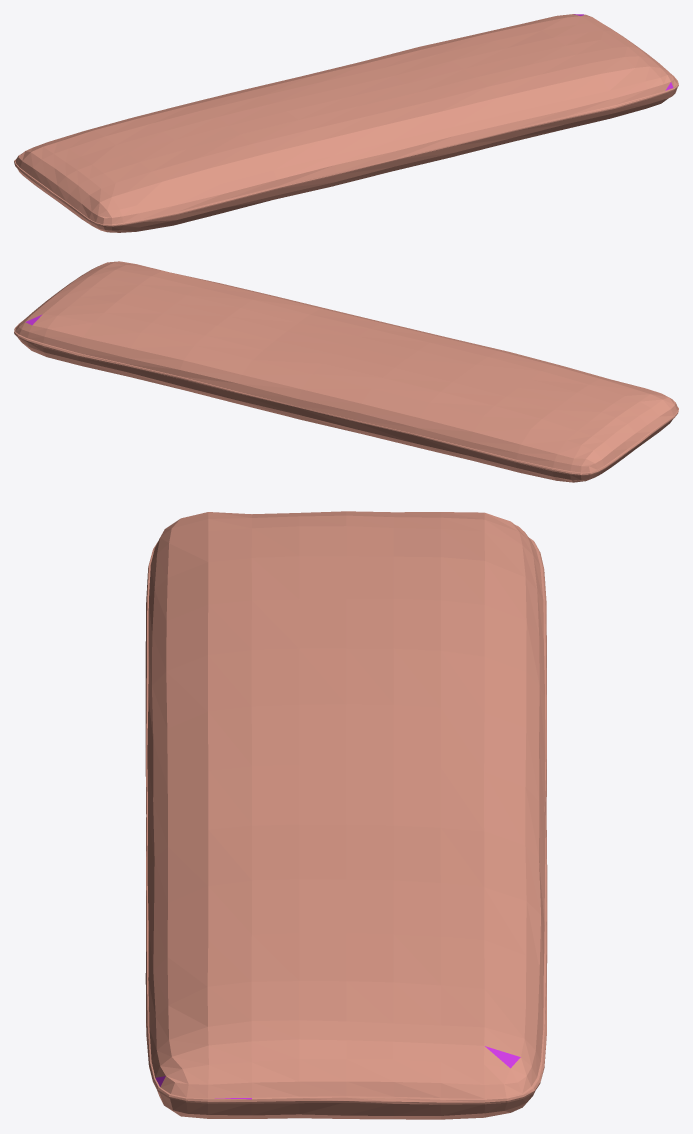
3 views of the same model, one above another, from view 1: azimuth 30°, elevation 25°; view 2: azimuth 150°, elevation 25°; view 3: azimuth 270°, elevation 25° (orthographic). The views are drawn at different scales.
Visible parts, largest first — view 1: Object001; view 2: Object001; view 3: Object001.
Part boxes in pixels (x1=…): Object001: x1=14, y1=14, x2=678, y2=232; Object001: x1=14, y1=261, x2=678, y2=482; Object001: x1=145, y1=511, x2=547, y2=1119.
Size of the model in its own units: 198 by 15.36 by 58.7.
